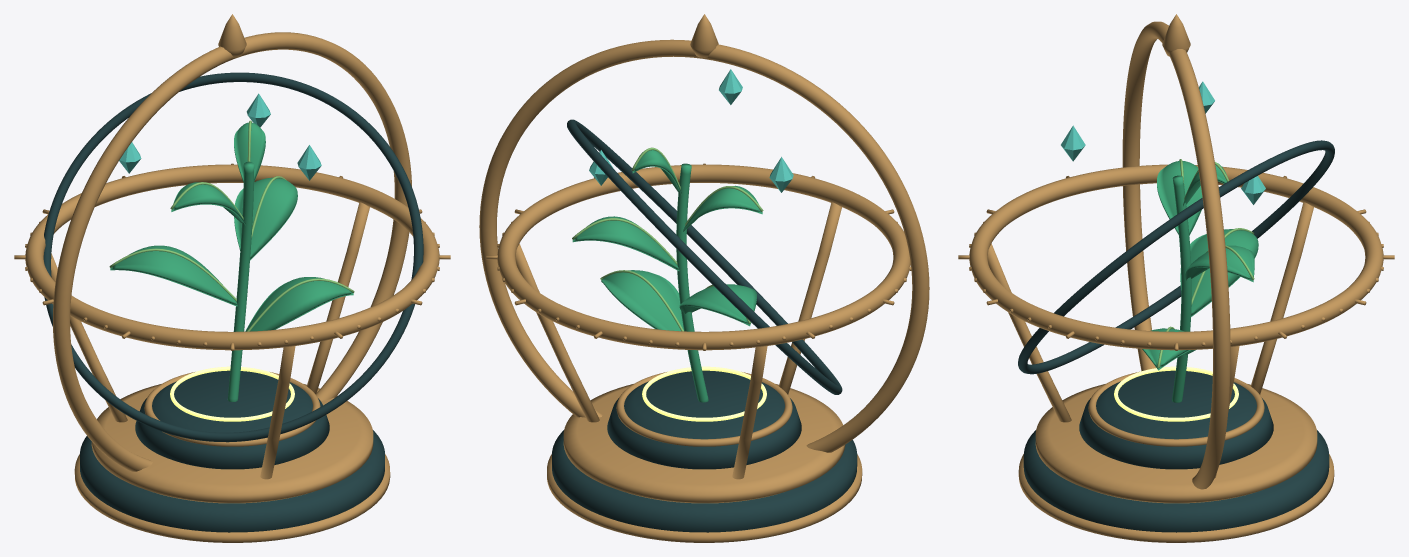
The model's file is meadow_dew_beacon.glb.
The picture shows the model from 3 angles, left to right: view 1: azimuth 30°, elevation 25°; view 2: azimuth 150°, elevation 25°; view 3: azimuth 270°, elevation 25°; orthographic projection.
Visible parts, largest first — view 1: 07 | Meridian arch, 06 | Equatorial dial, 03 | Instrument crown, 04 | Soil cradle, 01 | Obsidian plinth, 08 | Oblique orbit, 02 | Brass foot, Leaf 01, Leaf 00, Leaf 02, 10 | Living stem, Swept support 0 (+7 smaller); view 2: 07 | Meridian arch, 06 | Equatorial dial, 03 | Instrument crown, 04 | Soil cradle, 01 | Obsidian plinth, 08 | Oblique orbit, 02 | Brass foot, Leaf 00, 10 | Living stem, 05 | Cradle rim, Leaf 02, Swept support 2 (+7 smaller); view 3: 06 | Equatorial dial, 03 | Instrument crown, 07 | Meridian arch, 04 | Soil cradle, 01 | Obsidian plinth, 08 | Oblique orbit, 02 | Brass foot, Swept support 1, 10 | Living stem, 05 | Cradle rim, Leaf 01, Swept support 2 (+5 smaller).
Part boxes in pixels (x1,y1,x2,y2): 07 | Meridian arch: [53, 32, 411, 471]; 06 | Equatorial dial: [25, 164, 439, 350]; 03 | Instrument crown: [91, 384, 373, 503]; 04 | Soil cradle: [135, 370, 329, 469]; 01 | Obsidian plinth: [80, 430, 384, 532]; 08 | Oblique orbit: [43, 72, 423, 442]; 02 | Brass foot: [74, 454, 390, 542]; Leaf 01: [110, 245, 237, 306]; Leaf 00: [245, 277, 353, 331]; Leaf 02: [234, 177, 297, 260]; 10 | Living stem: [227, 161, 254, 401]; Swept support 0: [307, 202, 369, 393]; 07 | Meridian arch: [479, 39, 929, 452]; 06 | Equatorial dial: [497, 164, 910, 350]; 03 | Instrument crown: [563, 384, 845, 503]; 04 | Soil cradle: [607, 370, 801, 469]; 01 | Obsidian plinth: [552, 430, 857, 532]; 08 | Oblique orbit: [567, 119, 842, 394]; 02 | Brass foot: [547, 454, 862, 542]; Leaf 00: [601, 270, 683, 331]; 10 | Living stem: [676, 163, 708, 402]; 05 | Cradle rim: [616, 372, 792, 446]; Leaf 02: [572, 216, 679, 270]; Swept support 2: [779, 202, 841, 394]; 06 | Equatorial dial: [969, 164, 1383, 350]; 03 | Instrument crown: [1035, 384, 1317, 503]; 07 | Meridian arch: [1122, 21, 1230, 489]; 04 | Soil cradle: [1079, 370, 1273, 469]; 01 | Obsidian plinth: [1023, 430, 1329, 532]; 08 | Oblique orbit: [1018, 140, 1334, 374]; 02 | Brass foot: [1018, 454, 1334, 542]; Swept support 1: [1251, 202, 1313, 394]; 10 | Living stem: [1172, 175, 1191, 402]; 05 | Cradle rim: [1088, 371, 1264, 446]; Leaf 01: [1180, 229, 1258, 316]; Swept support 2: [987, 243, 1071, 422].
Size of the model in its own units: 2.77 by 3.07 by 2.6.
